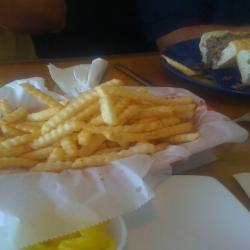fries: (5, 87, 193, 163)
